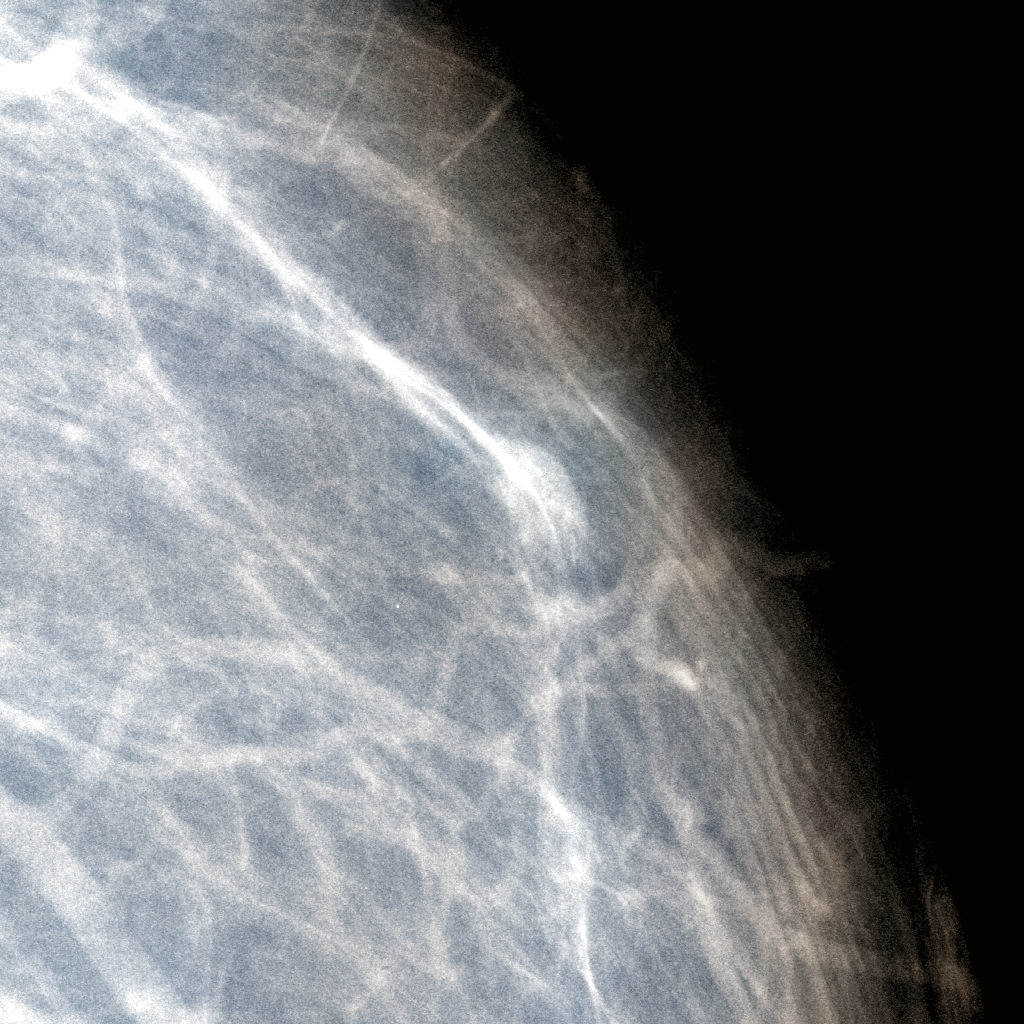tumor: (425, 388, 599, 636)
